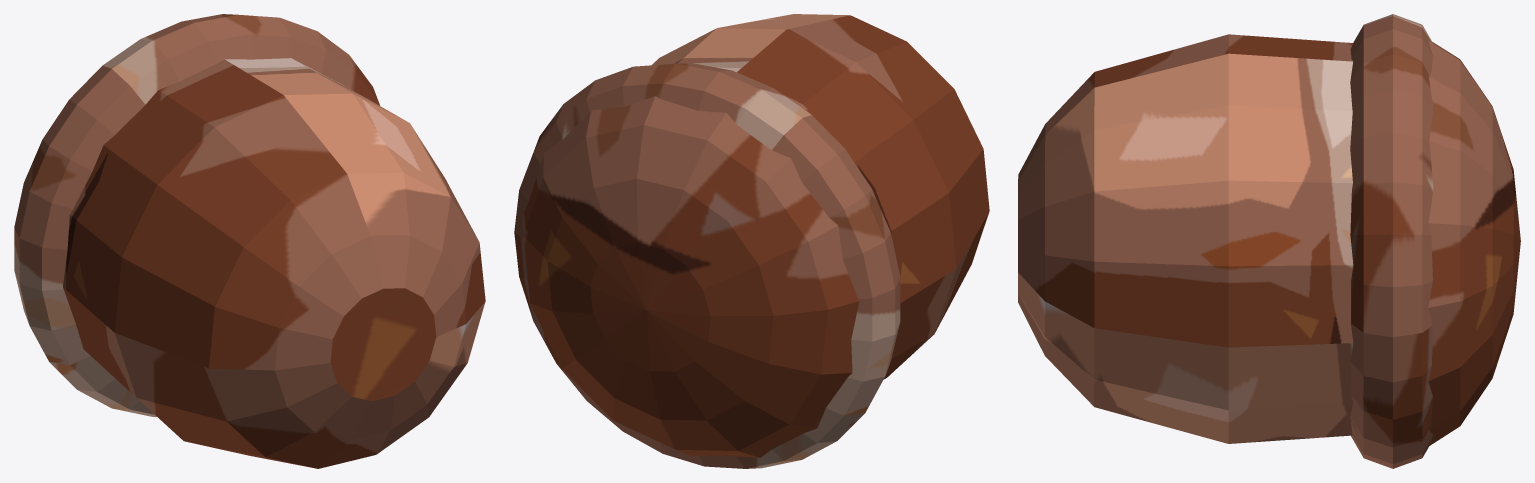
Rendered from leaf_car_wheel.fbx.
3 views of the same model, side by side, from view 1: azimuth 30°, elevation 25°; view 2: azimuth 150°, elevation 25°; view 3: azimuth 270°, elevation 25° (orthographic). The views are drawn at different scales.
Parts seen in each view (by area): view 1: Cone, Torus; view 2: Sphere, Cone, Torus; view 3: Cone, Torus, Sphere.
Boxes of the visible parts, <box> form: Cone: <box>63,58,485,468</box>; Torus: <box>14,14,379,416</box>; Sphere: <box>522,96,859,457</box>; Cone: <box>651,14,989,379</box>; Torus: <box>514,63,900,468</box>; Cone: <box>1018,34,1353,443</box>; Torus: <box>1350,14,1433,468</box>; Sphere: <box>1428,41,1520,445</box>.
Bounding box in the file's own units: 56.56 × 56.66 × 62.59.
Materials: 1 (1 with a texture image).
